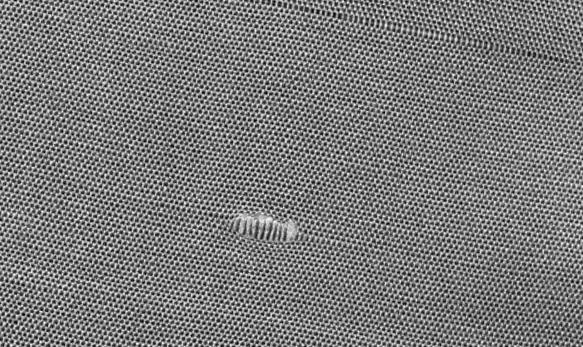slub: (217, 204, 308, 255)
